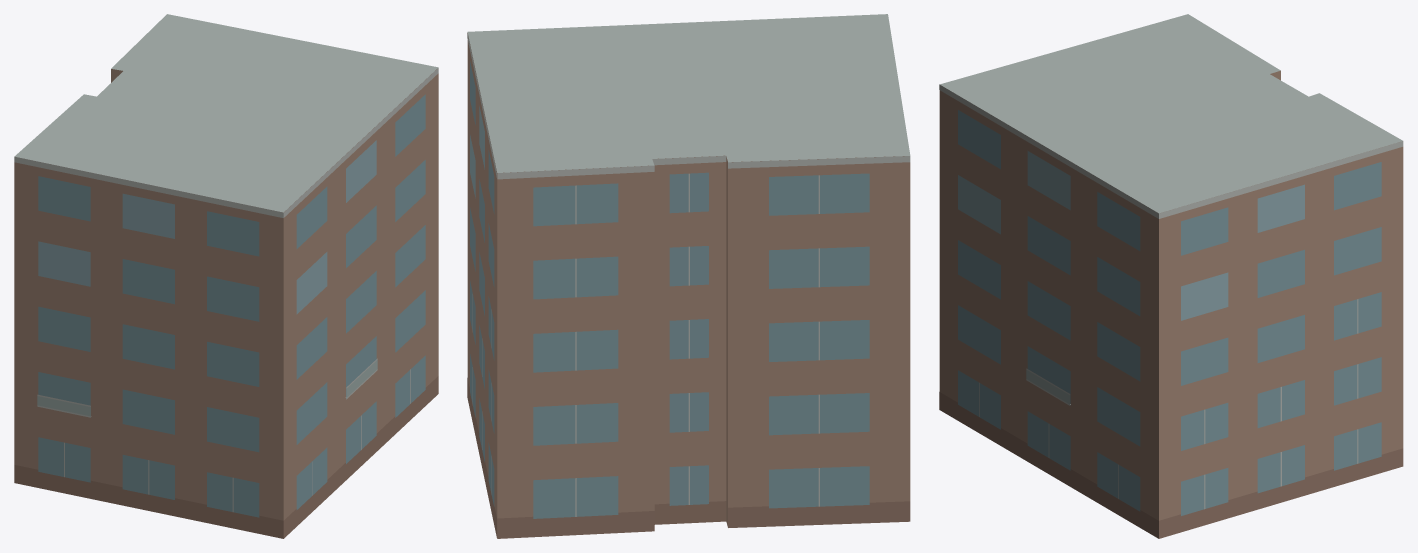
File: survey-upis-32750305.glb
3 views of the same model, side by side, from view 1: azimuth 30°, elevation 25°; view 2: azimuth 150°, elevation 25°; view 3: azimuth 270°, elevation 25° (orthographic). The views are drawn at different scales.
Visible parts, largest first — view 1: survey-upis-32750305.tmp; view 2: survey-upis-32750305.tmp; view 3: survey-upis-32750305.tmp.
Part boxes in pixels (<box>): survey-upis-32750305.tmp: <box>14,14,438,538</box>; survey-upis-32750305.tmp: <box>467,14,910,538</box>; survey-upis-32750305.tmp: <box>939,14,1403,538</box>.
Bounding box in the file's own units: 18.47 × 14.05 × 18.16.
